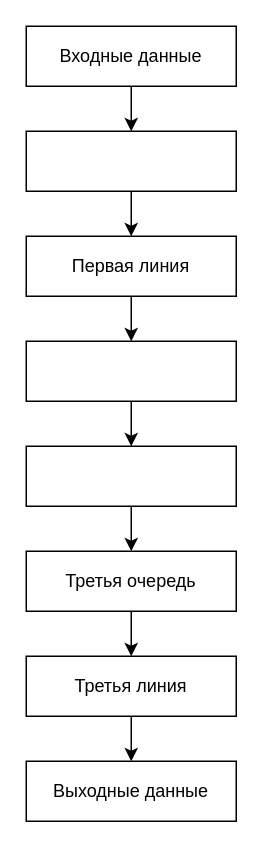
Some shapes in this 263 by 848 pixel diagram are drawn without their labels. Each missing label, with the centre of its shape:
"Вторая линия" goes at pixel 130 475.
"Вторая очередь" goes at pixel 130 370.
"Первая очередь" goes at pixel 130 160.
